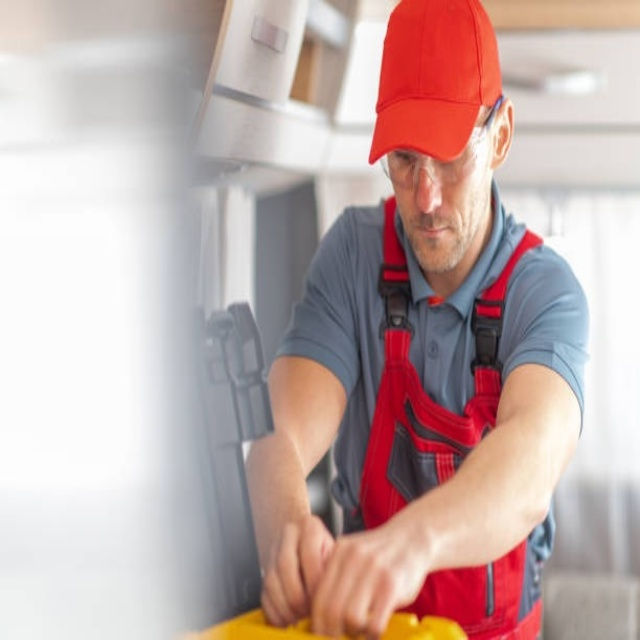Gafas: (379, 108, 496, 193)
Sin_guantes: (316, 510, 426, 638), (260, 508, 335, 630)
Sin_mascara: (406, 212, 458, 265)
